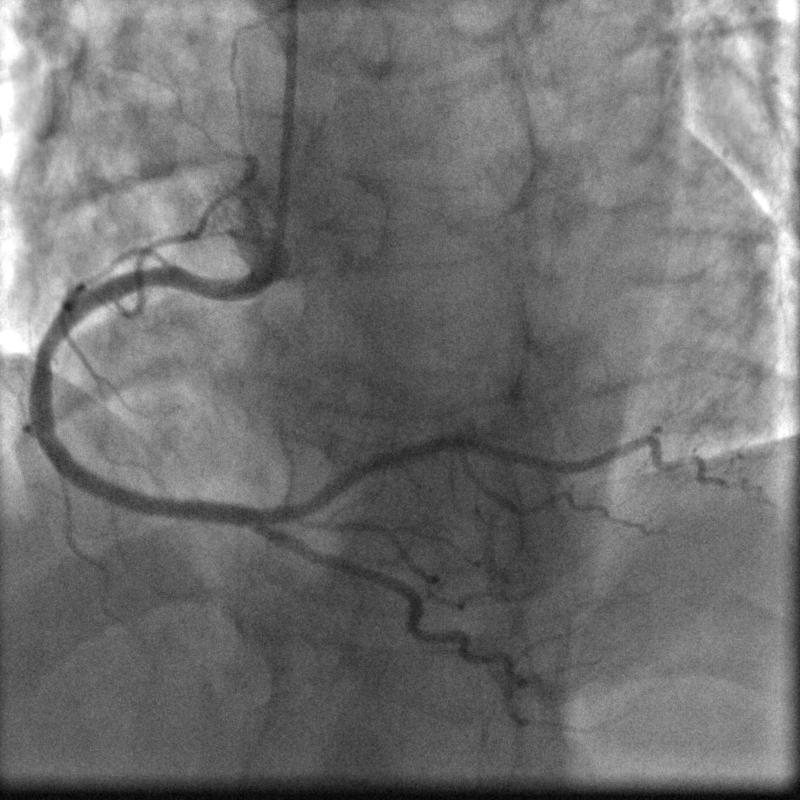Stenosis: (29, 328, 59, 389)
